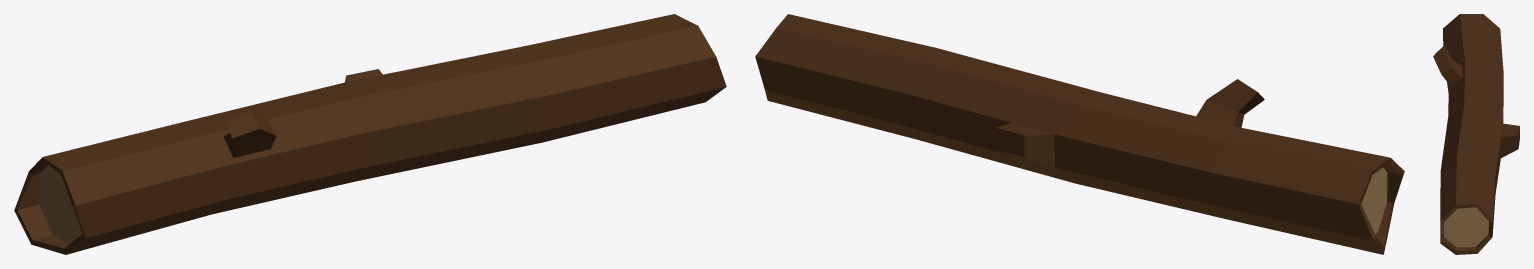
The model's file is Stick.fbx.
3 views of the same model, side by side, from view 1: azimuth 30°, elevation 25°; view 2: azimuth 150°, elevation 25°; view 3: azimuth 270°, elevation 25° (orthographic). The views are drawn at different scales.
Visible parts, largest first — view 1: Cylinder.022; view 2: Cylinder.022; view 3: Cylinder.022.
Part boxes in pixels (left/top/right/bottom): Cylinder.022: left=14, top=14, right=726, bottom=254; Cylinder.022: left=755, top=14, right=1404, bottom=254; Cylinder.022: left=1433, top=14, right=1519, bottom=254.
Size of the model in its own units: 74.3 by 12.22 by 13.88.
